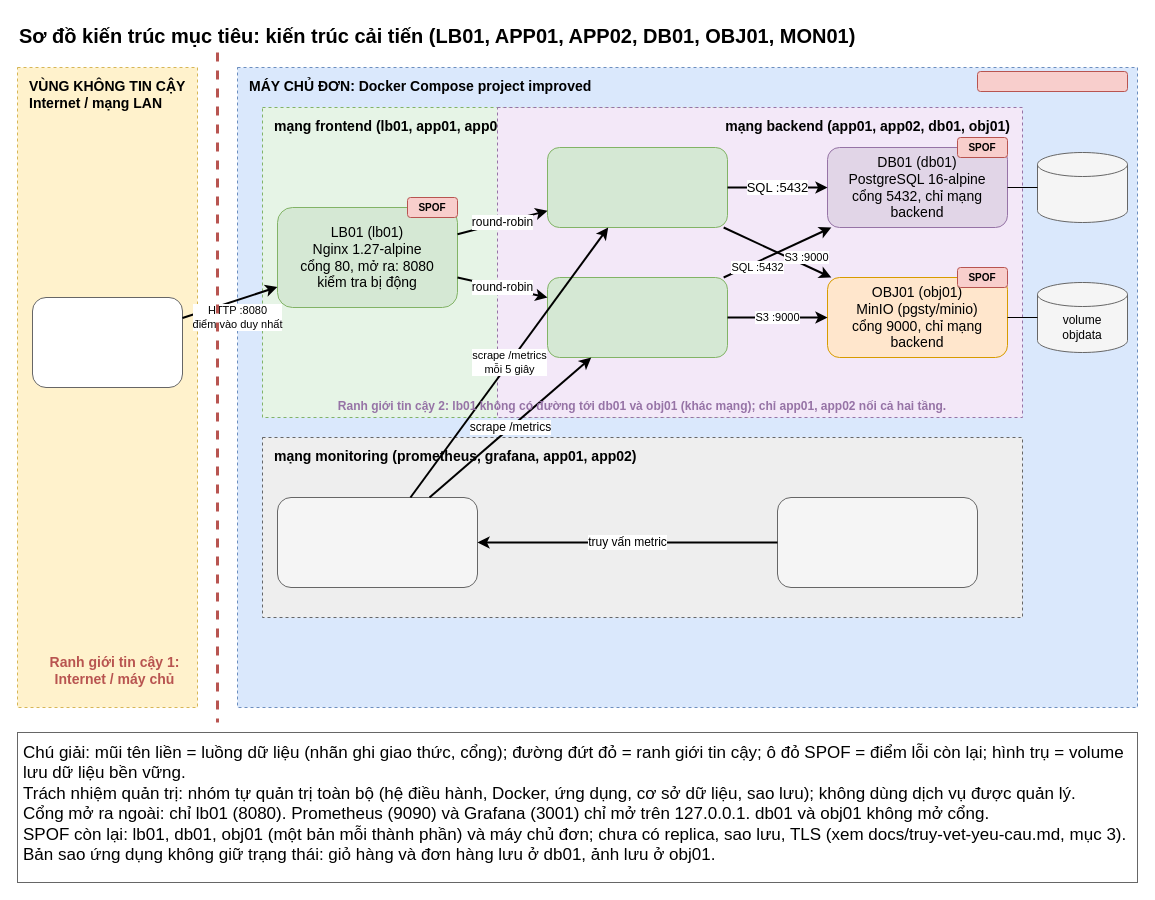
This 1155x900 diagram has some shape labels left out. The shapes that lost their labels are listed below. From the top down, each one's centre as x and y in pixels, then its label:
point (1052, 81): SPOF: một máy chủ
point (637, 187): APP01 (app01) Node.js 20-alpine cổng 3000
point (1082, 187): volume dbdata
point (637, 317): APP02 (app02) Node.js 20-alpine cổng 3000
point (107, 342): Người dùng trình duyệt, công cụ tạo tải k6 (LOADGEN)
point (377, 542): MON01 (prometheus) Prometheus v2.52.0 mở: 127.0.0.1:9090
point (877, 542): MON01 (grafana) Grafana 11.0.0 mở: 127.0.0.1:3001
